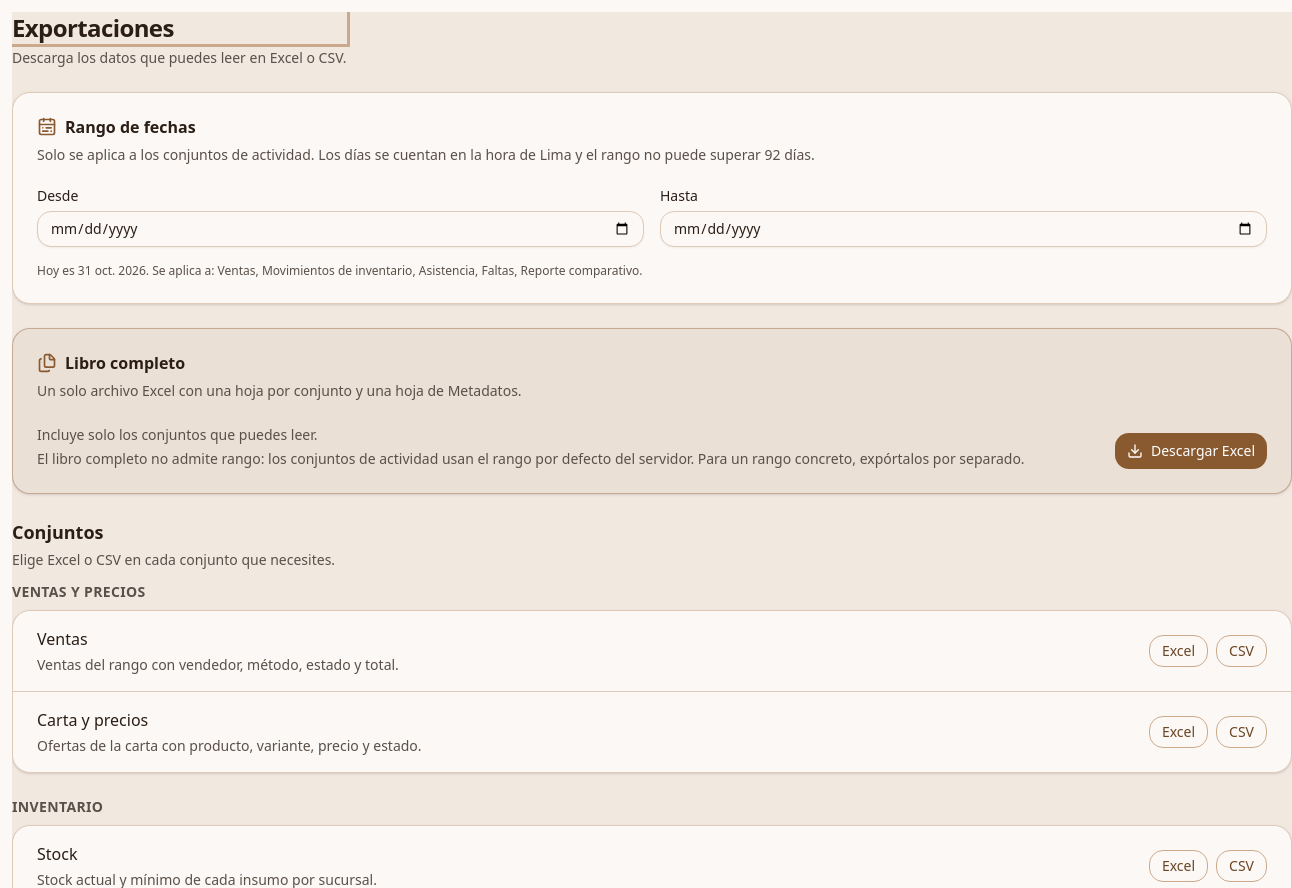
Test: ExportacionesPage: descarga y libro completo › descarga un CSV sin rango
Expected: the heading "Exportaciones" is shown, x1=12 y1=12 x2=347 y2=44
Click the button "CSV" in the row of "Carta y precios" at {"x": 1242, "y": 732}, box x1=1216 y1=716 x2=1267 y2=748
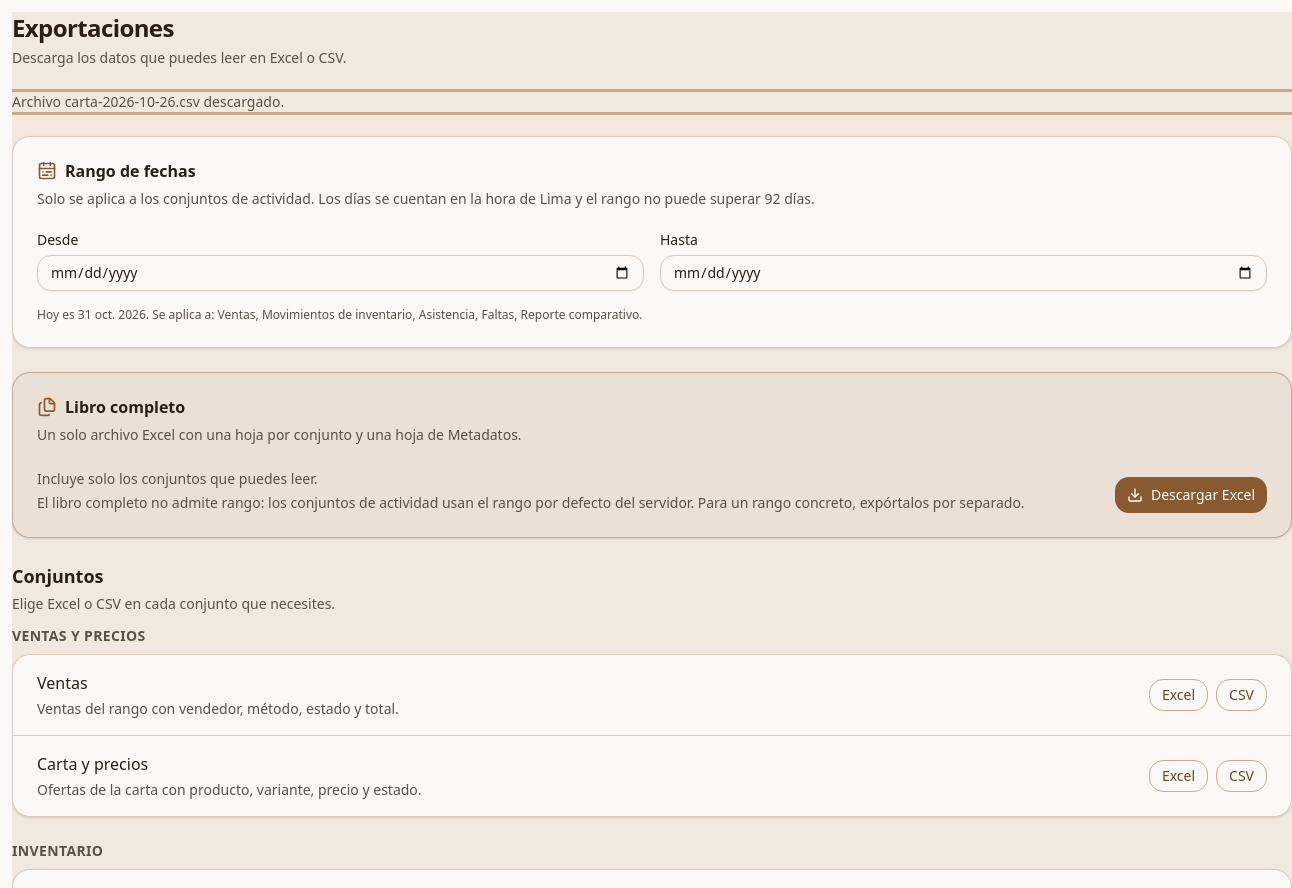
Result: the text "Archivo carta-2026-10-26.csv descargado." is shown at x1=12 y1=92 x2=1291 y2=112
